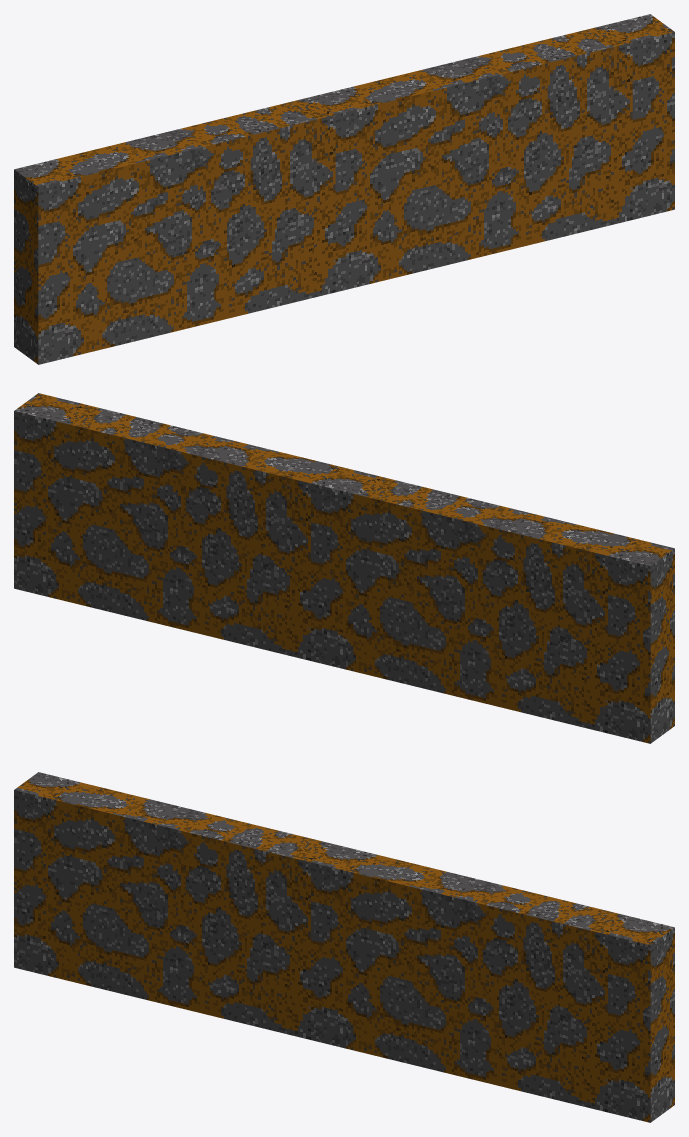
File: WallNewWall.gltf
3 renders of one model, top to bottom at view 1: azimuth 30°, elevation 25°; view 2: azimuth 150°, elevation 25°; view 3: azimuth 330°, elevation 25°, orthographic.
Parts seen in each view (by area): view 1: default; view 2: default; view 3: default.
Boxes of the visible parts, left/top/right/bottom form: default: left=14, top=14, right=674, bottom=364; default: left=14, top=393, right=674, bottom=743; default: left=14, top=772, right=674, bottom=1122.
Bounding box in the file's own units: 15 × 4 × 1.
Materials: 1 (1 with a texture image).
